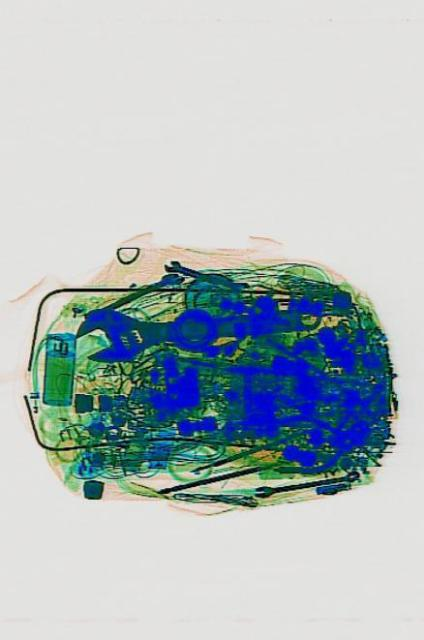Wrench: (71, 282, 321, 366), (108, 263, 182, 313), (160, 255, 246, 298), (251, 467, 358, 497)
